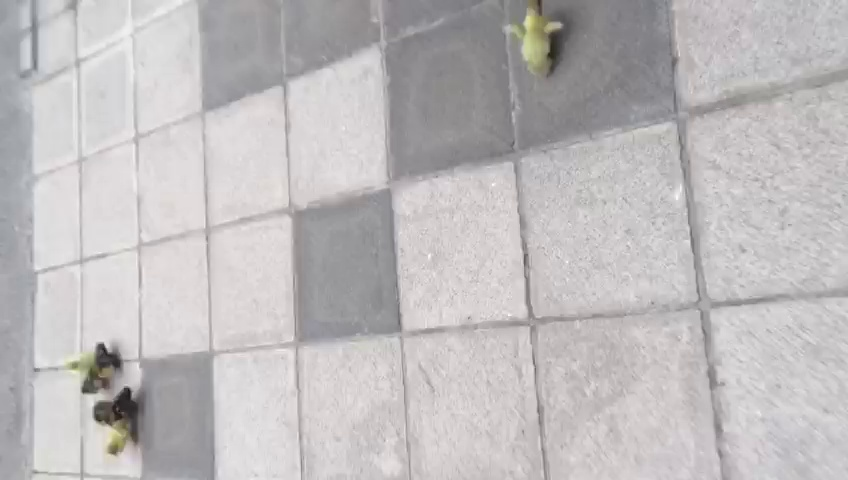patito: (502, 1, 562, 79), (103, 419, 135, 460), (91, 340, 121, 379), (112, 382, 138, 423), (81, 367, 109, 397), (63, 352, 96, 374), (93, 395, 115, 426)
